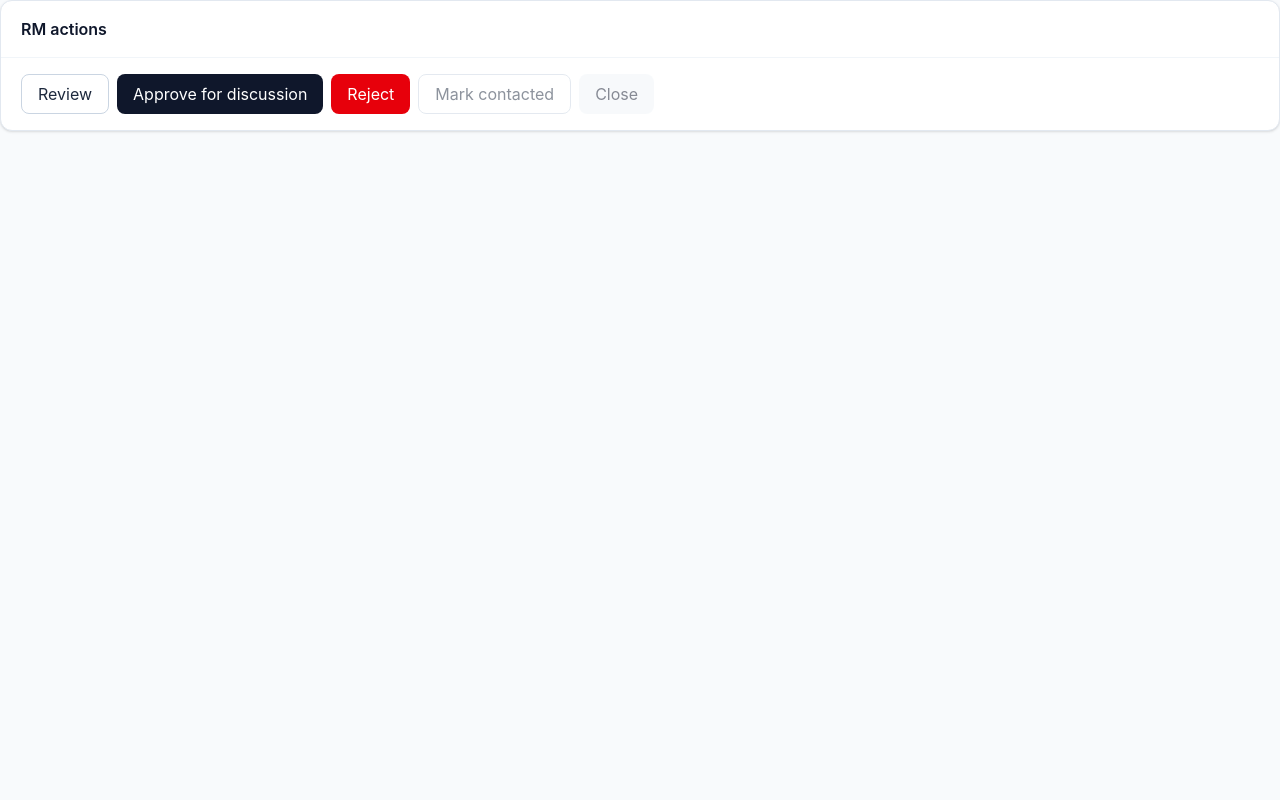
Test case: RMActionPanel › handles invalid transition error on approve
What coordinates should you click on to do the following:
click the button "Approve for discussion"
I would click on:
 (220, 94)
Its box is [117,74,323,114].
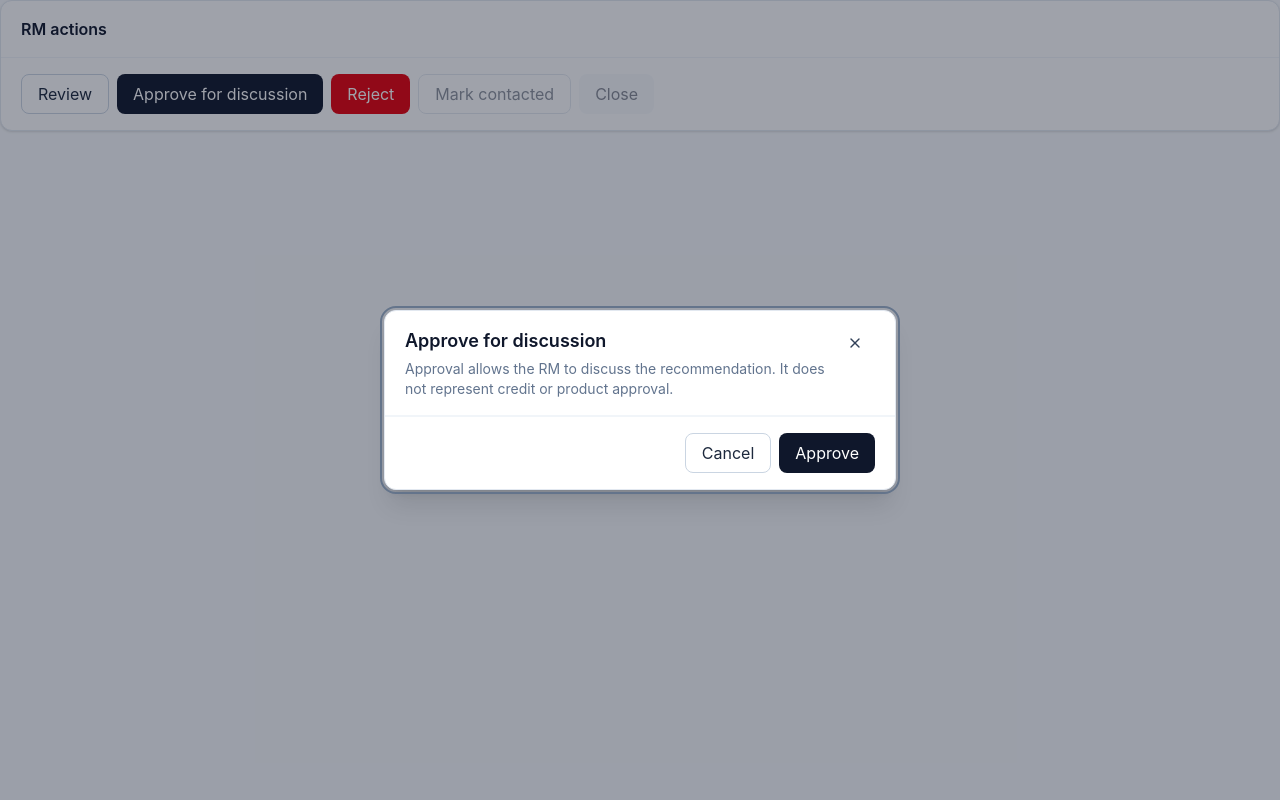
What coordinates should you click on to do the following:
click the button "Approve"
I would click on:
 (827, 453)
Its box is [779,433,875,473].
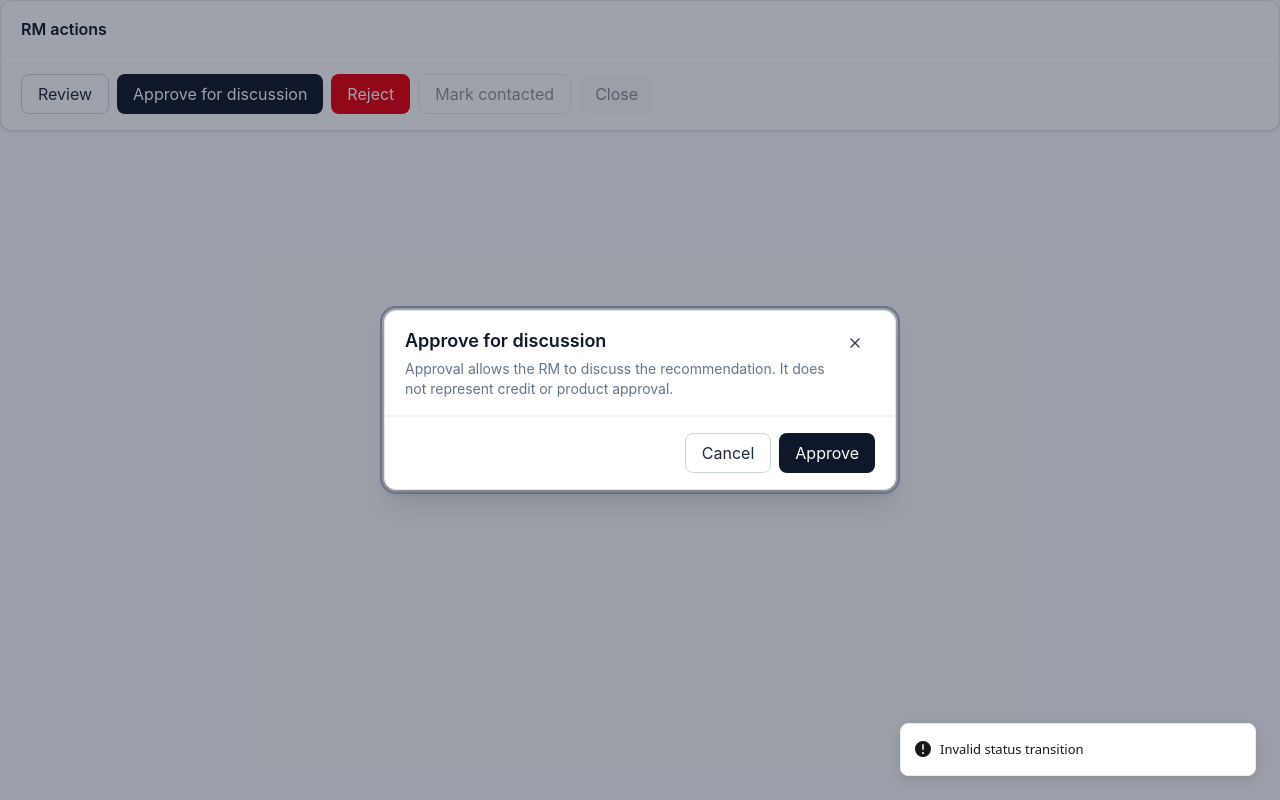
Check: the text "Invalid status transition" is shown, box [940,740,1084,759]
